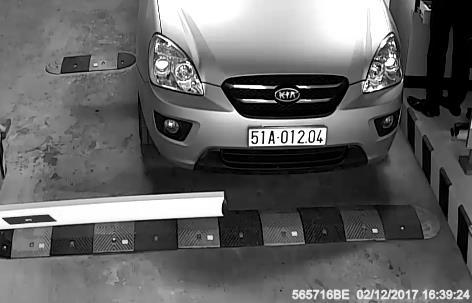License-plate: (243, 119, 336, 162)
